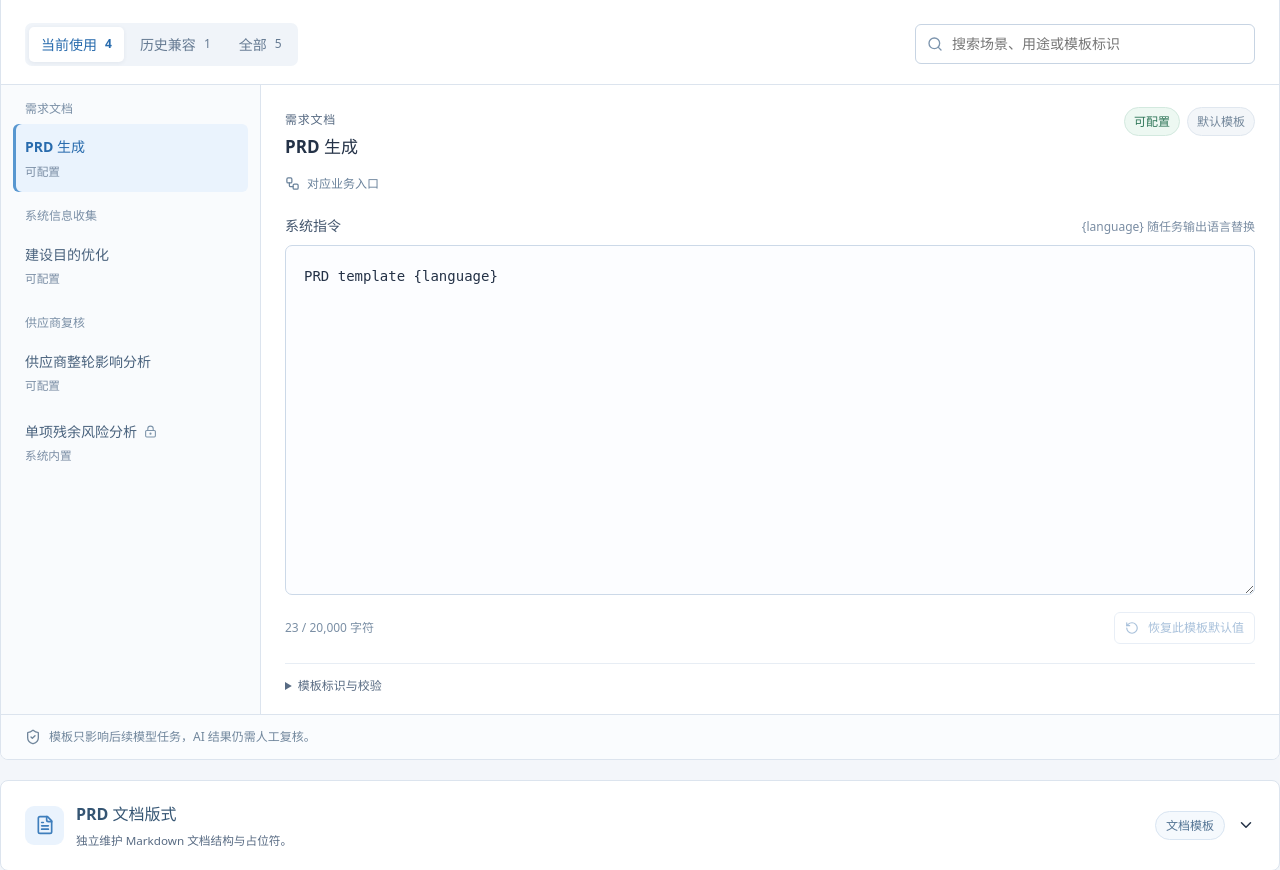
Scenario: retains authored edits after a version conflict
(page scrolled)
Replace the text in the text box named "PRD 生成" with "保留未保存提示词". click: (770, 420)
box: 285,245 -> 1255,595
(page scrolled)
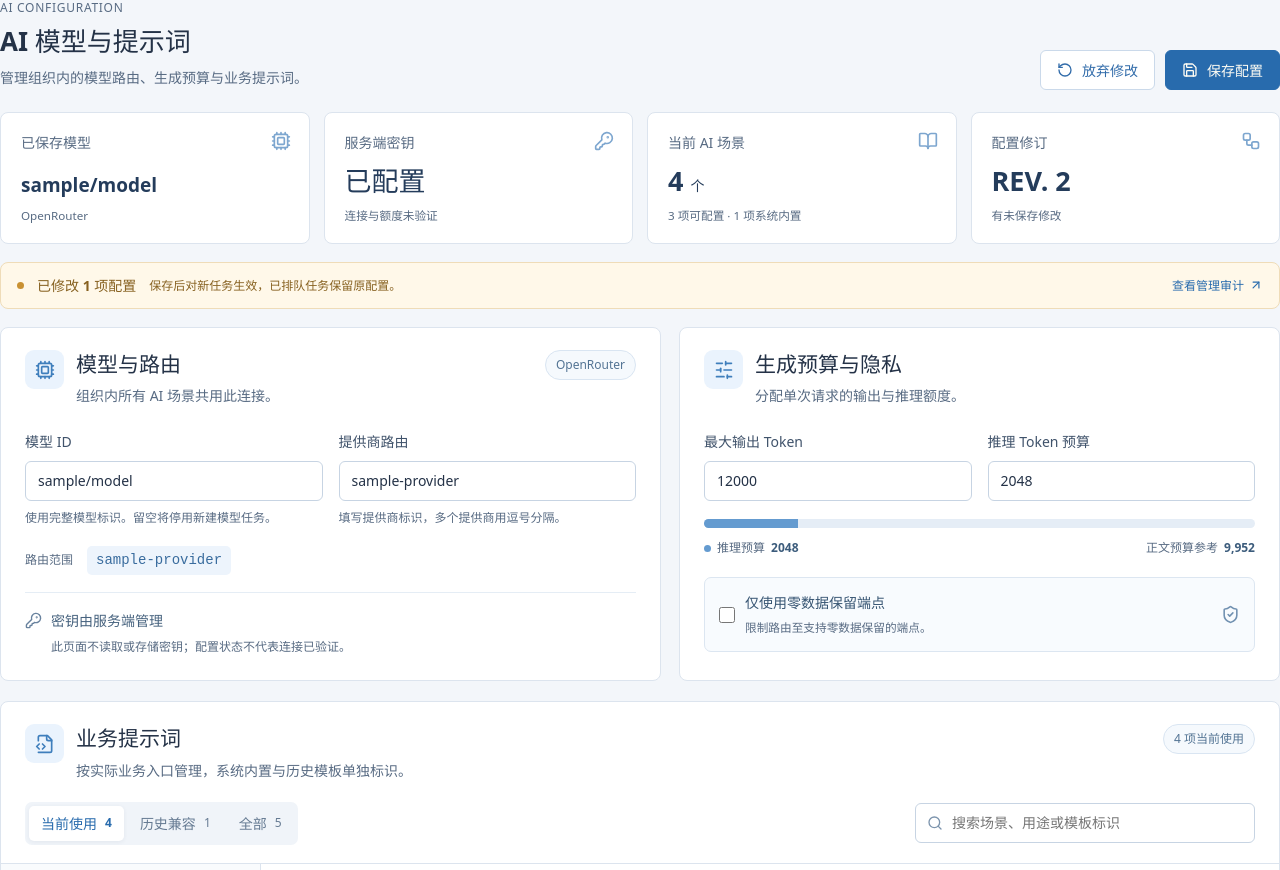
Click the button "保存配置". click: (1222, 70)
box: 1165,50 -> 1279,90
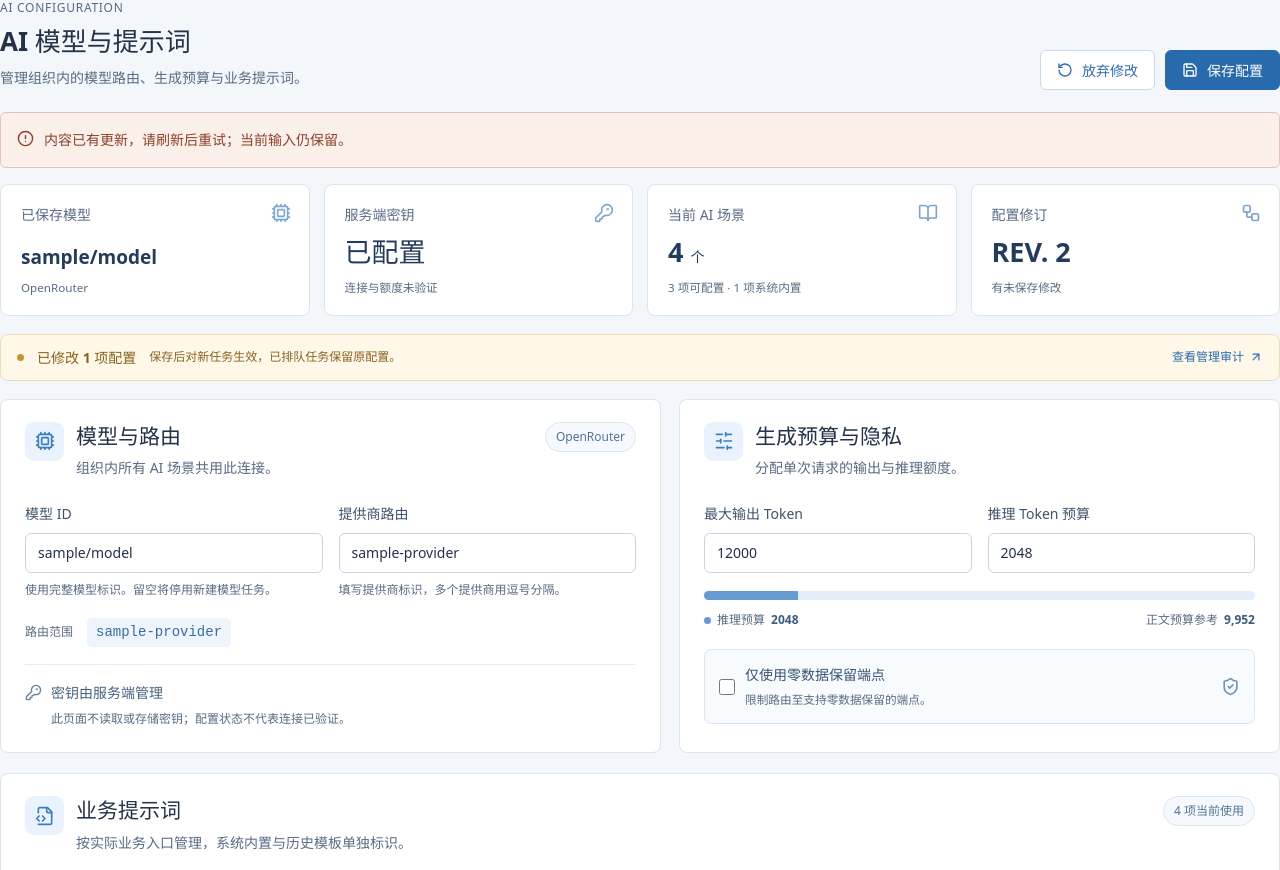
expect the text "REV. 2" is shown: met, box 992,234 -> 1071,270
expect the message "内容已有更新，请刷新后重试；当前输入仍保留。" is shown: met, box 0,112 -> 1279,168
